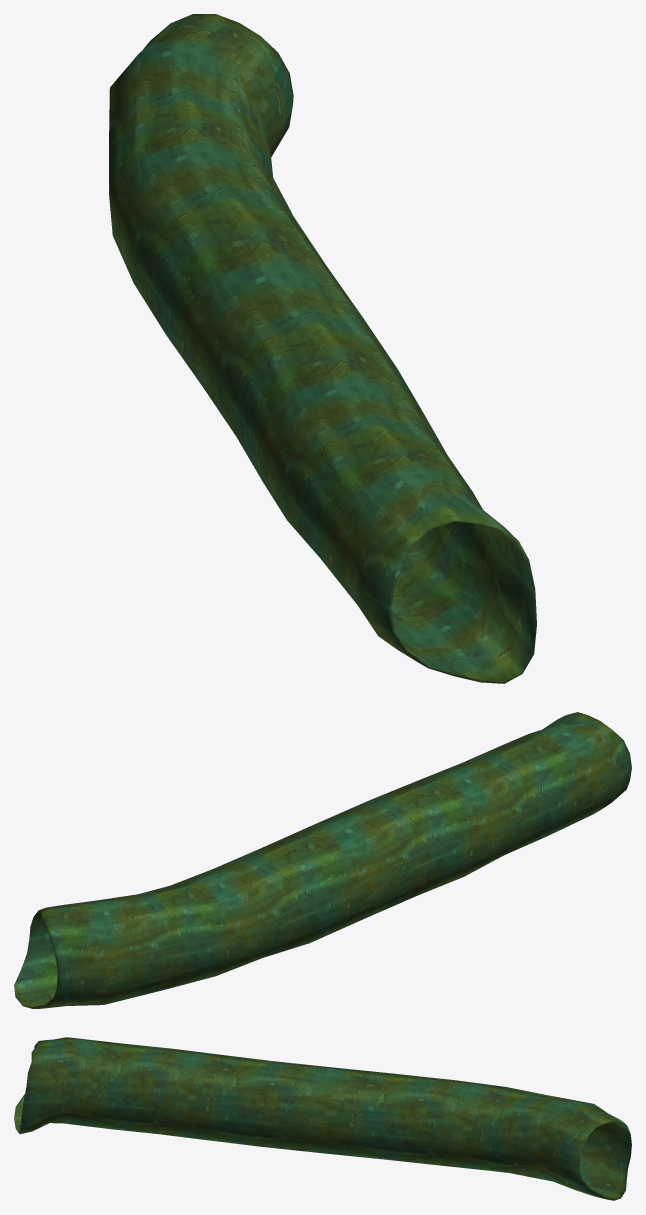
Rendered from MIRKWOOD_MIRK_PLAYSURFACE84.fbx.
3 renders of one model, top to bottom at view 1: azimuth 30°, elevation 25°; view 2: azimuth 150°, elevation 25°; view 3: azimuth 270°, elevation 25°, orthographic. The views are drawn at different scales.
Visible parts, largest first — view 1: MIRKWOOD_MIRK_PLAYSURFACE84; view 2: MIRKWOOD_MIRK_PLAYSURFACE84; view 3: MIRKWOOD_MIRK_PLAYSURFACE84.
Boxes of the visible parts, bbox=[...] form: MIRKWOOD_MIRK_PLAYSURFACE84: bbox=[109, 14, 536, 683]; MIRKWOOD_MIRK_PLAYSURFACE84: bbox=[14, 712, 631, 1008]; MIRKWOOD_MIRK_PLAYSURFACE84: bbox=[14, 1037, 631, 1200].
Bounding box in the file's own units: 115357 × 41977 × 273770.
1 material, 1 textured.
